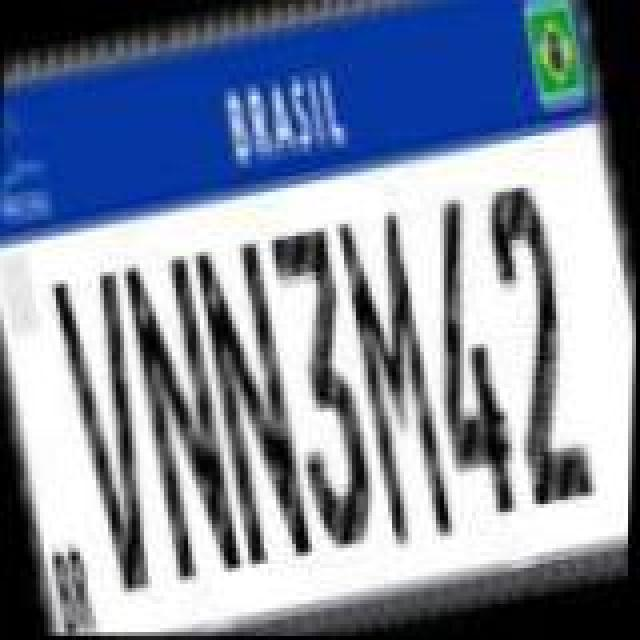2: (470, 176, 610, 516)
3: (252, 220, 392, 556)
4: (400, 188, 536, 524)
M: (324, 208, 464, 556)
N: (114, 250, 258, 590), (182, 234, 326, 570)
V: (40, 262, 184, 598)
